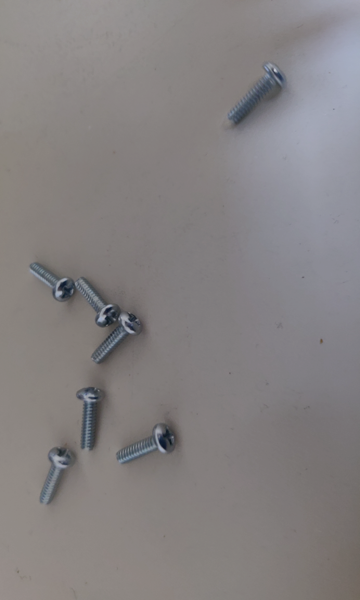shortscrew: (227, 62, 289, 126), (91, 312, 143, 365), (117, 424, 176, 465), (75, 277, 121, 328), (39, 447, 75, 506), (76, 388, 106, 450), (29, 262, 75, 302)
